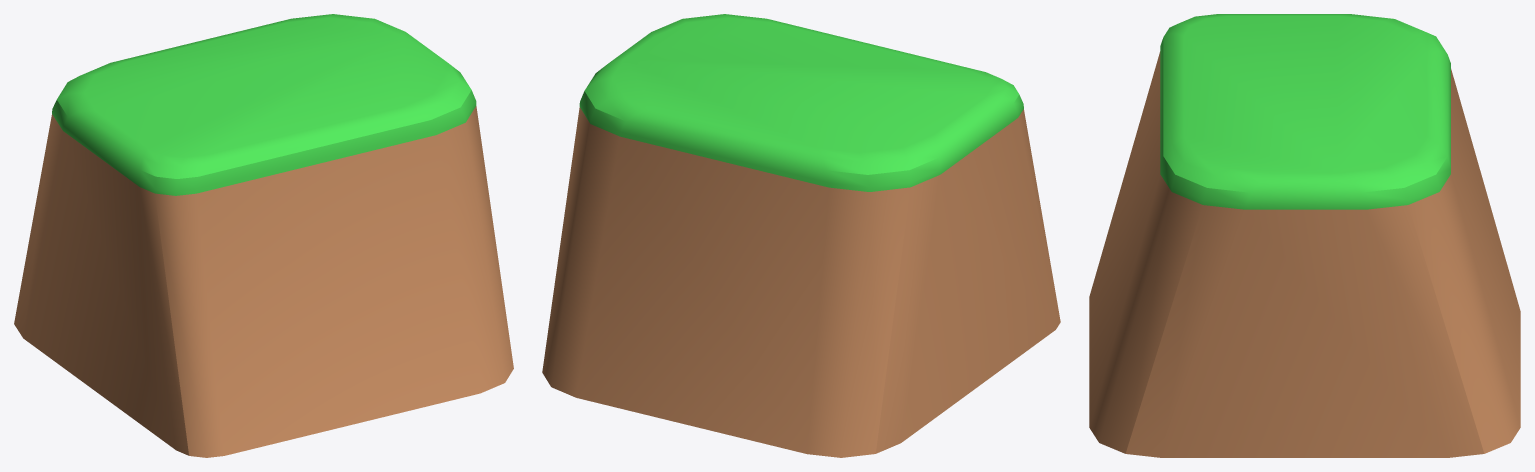
The model's file is HillRock002.fbx.
3 views of the same model, side by side, from view 1: azimuth 30°, elevation 25°; view 2: azimuth 150°, elevation 25°; view 3: azimuth 270°, elevation 25° (orthographic). The views are drawn at different scales.
Visible parts, largest first — view 1: HillRock002; view 2: HillRock002; view 3: HillRock002.
Part boxes in pixels (x1,y1,x2,y2): HillRock002: (14, 14, 513, 457); HillRock002: (542, 14, 1060, 457); HillRock002: (1089, 14, 1520, 457).
Size of the model in its own units: 583 by 421 by 599.
